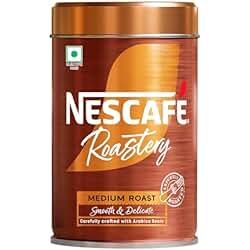Coffee: (52, 4, 198, 246)
